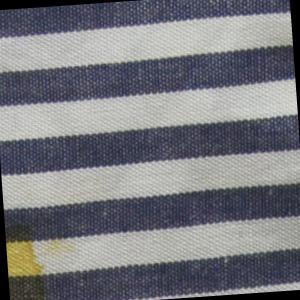Oil Stain: (5, 210, 84, 300)
Stain: (275, 1, 291, 5)
